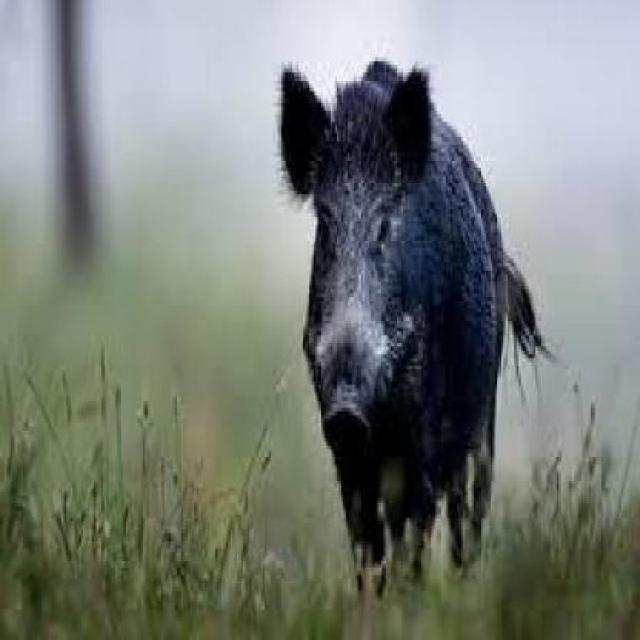wildboar: (268, 48, 560, 620)
